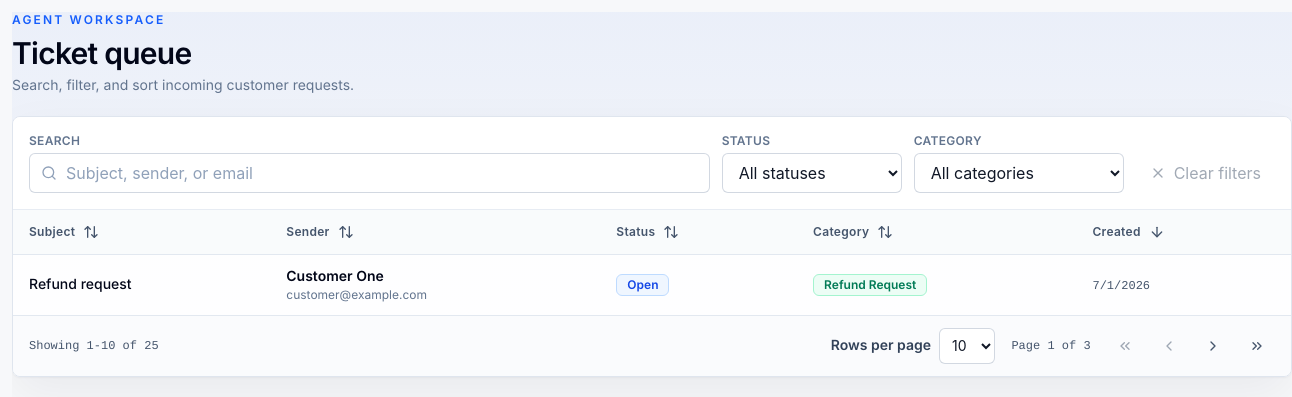
Test: TicketsPage › clears sorting on a third click and refetches the default sort
The width and height of the screenshot is (1292, 397).
Expected: the text "customer@example.com" is shown, x1=286 y1=286 x2=427 y2=302
Click the button "Subject": (64, 232) x1=21 y1=216 x2=107 y2=248
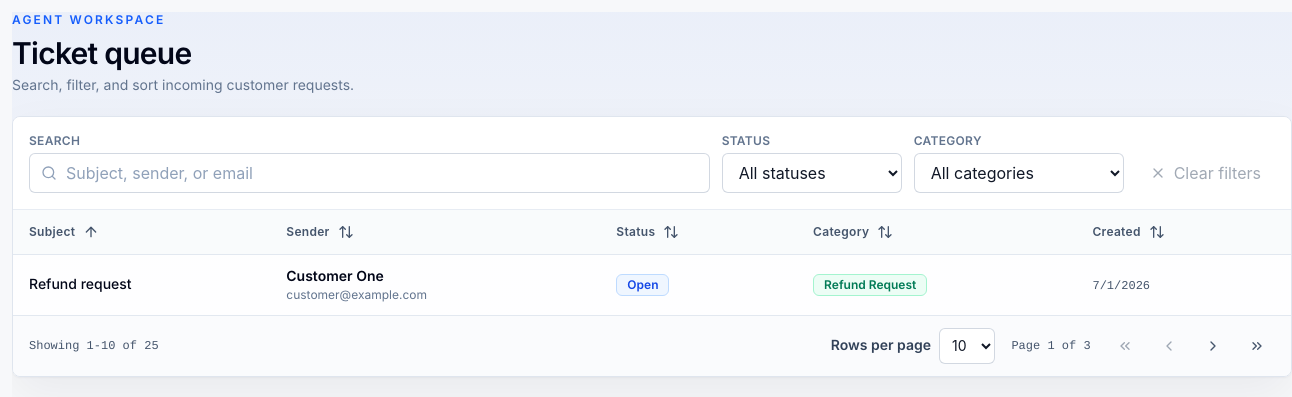
Click the button "Subject": (64, 232) x1=21 y1=216 x2=107 y2=248
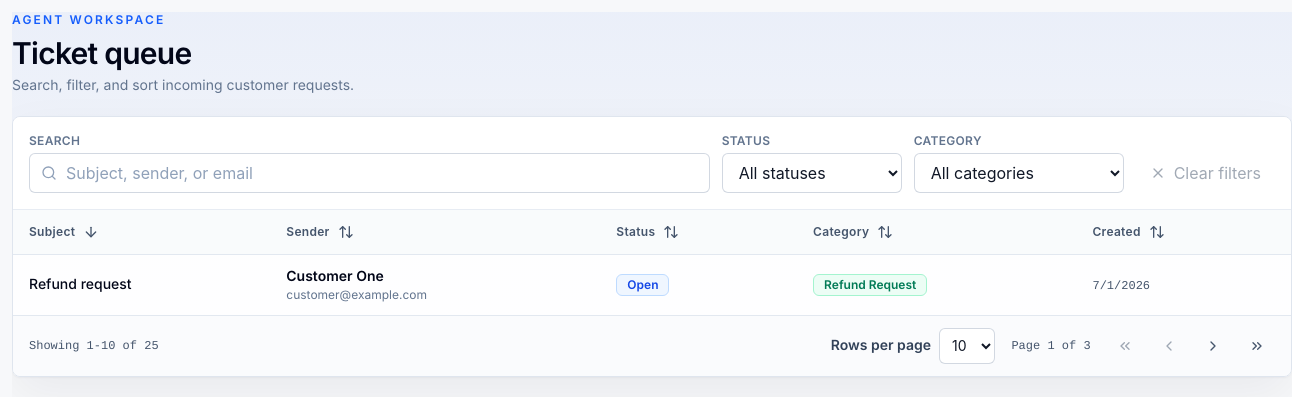
Click the button "Subject": (64, 232) x1=21 y1=216 x2=107 y2=248
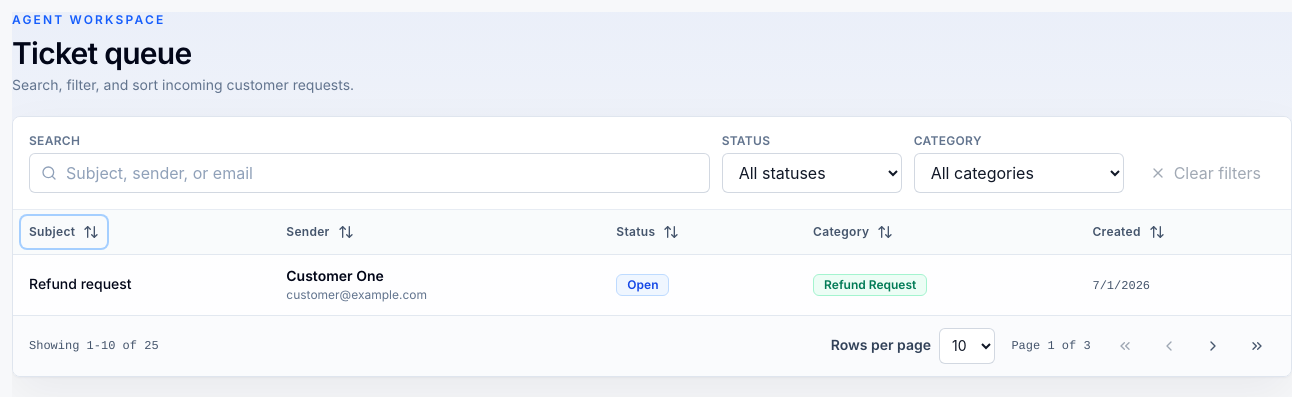
Now the button with aria-label "Subject not sorted" is shown, box x1=21 y1=216 x2=107 y2=248
